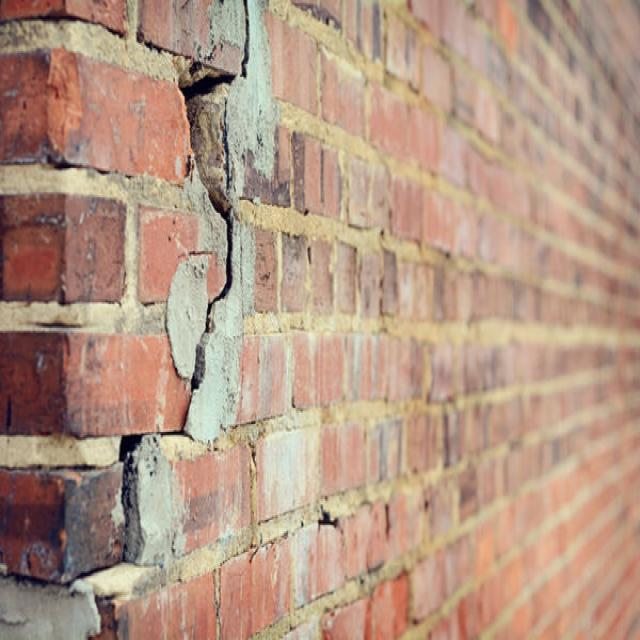Crack: (8, 0, 250, 595)
